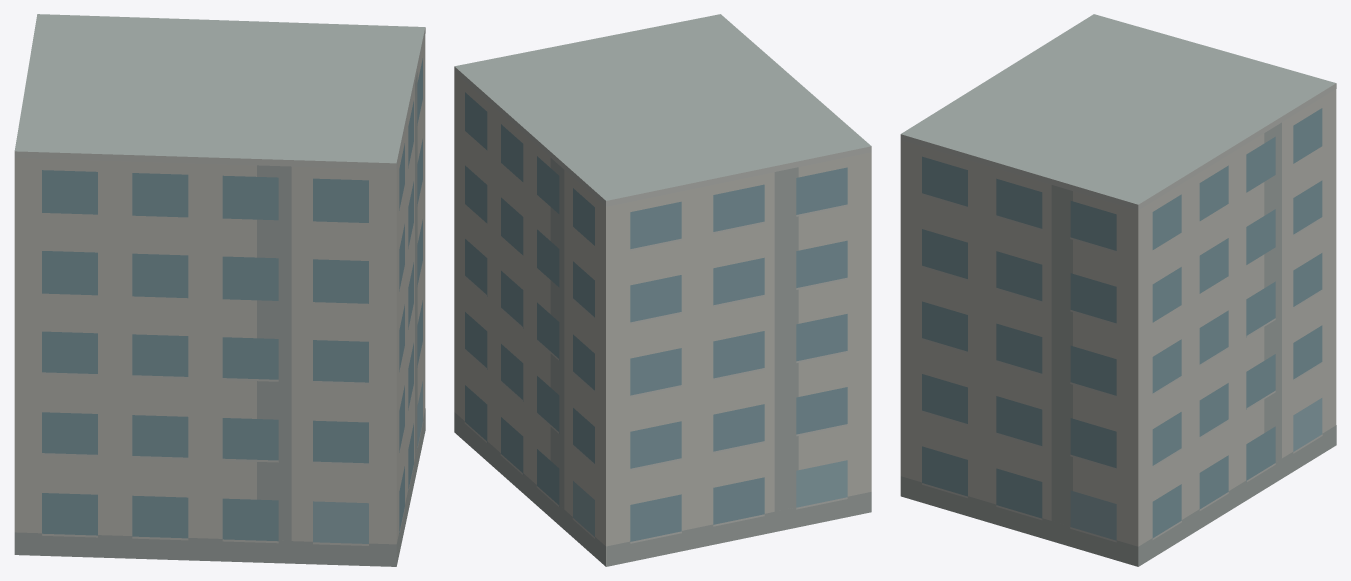
Rendered from residential-db69c67a-ee2a-41eb-a01a-6ba909689d5c.glb.
3 renders of one model, left to right at view 1: azimuth 30°, elevation 25°; view 2: azimuth 150°, elevation 25°; view 3: azimuth 270°, elevation 25°, orthographic. The views are drawn at different scales.
Visible parts, largest first — view 1: residential-db69c67a-ee2a-41eb-a01a-6ba909689d5c.tmp; view 2: residential-db69c67a-ee2a-41eb-a01a-6ba909689d5c.tmp; view 3: residential-db69c67a-ee2a-41eb-a01a-6ba909689d5c.tmp.
Boxes of the visible parts, x1,y1,x2,y2 form: residential-db69c67a-ee2a-41eb-a01a-6ba909689d5c.tmp: [14, 14, 425, 566]; residential-db69c67a-ee2a-41eb-a01a-6ba909689d5c.tmp: [454, 14, 871, 566]; residential-db69c67a-ee2a-41eb-a01a-6ba909689d5c.tmp: [900, 14, 1336, 566].
Bounding box in the file's own units: 17.23 × 15.25 × 16.64.
